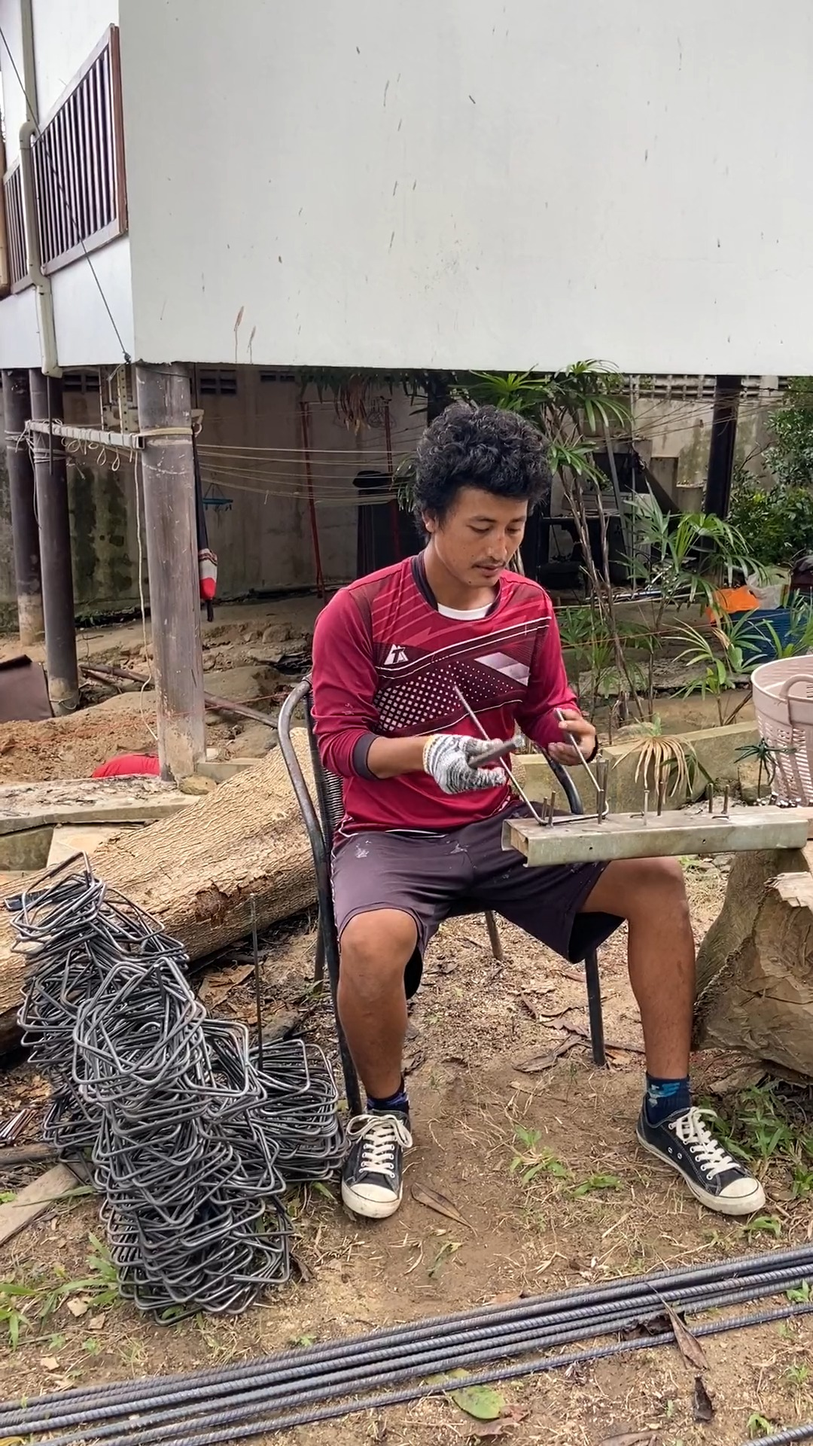No-gloves: (547, 710, 628, 787)
gloves: (414, 710, 515, 806)
